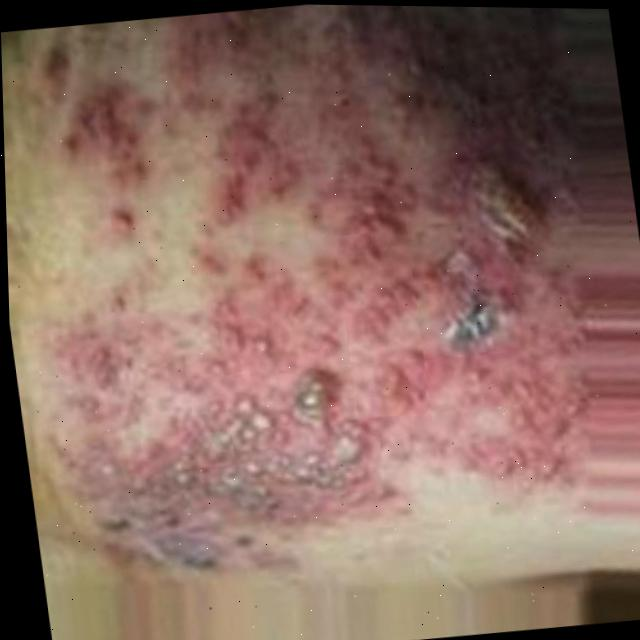Shingles: (26, 0, 618, 578)
